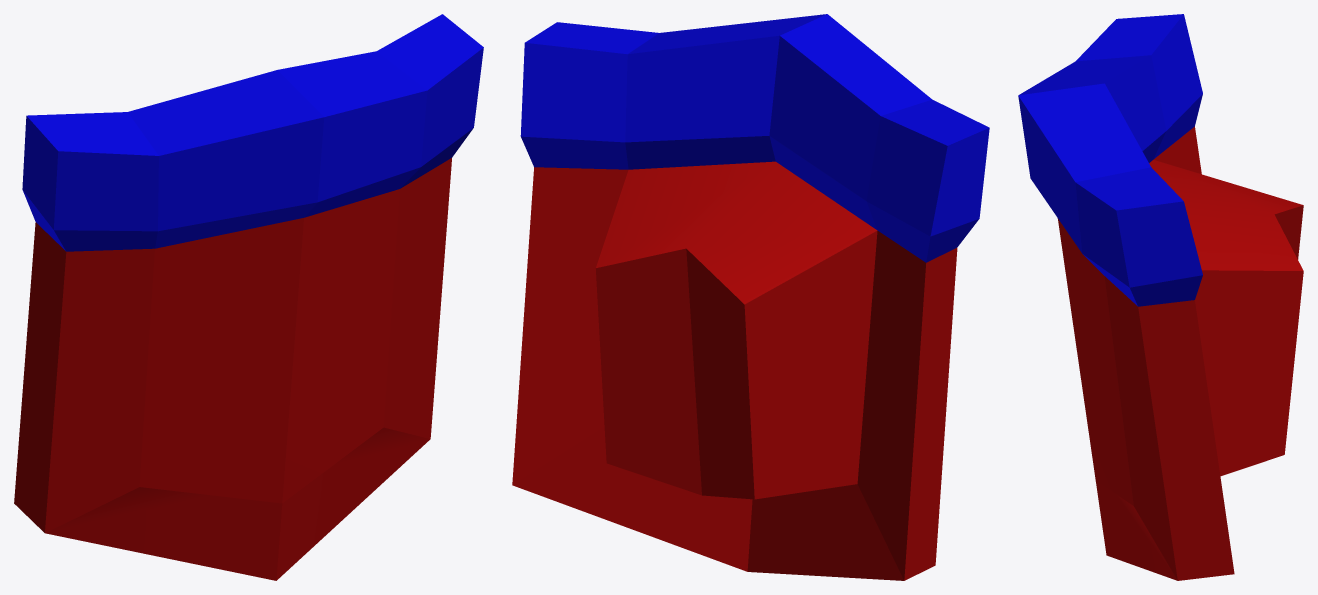
File: Chr_KneeAttachRight_Static_11.fbx
The picture shows the model from 3 angles, left to right: view 1: azimuth 30°, elevation 25°; view 2: azimuth 150°, elevation 25°; view 3: azimuth 270°, elevation 25°; orthographic projection. The views are drawn at different scales.
Parts seen in each view (by area): view 1: Chr_KneeAttachRight_11; view 2: Chr_KneeAttachRight_11; view 3: Chr_KneeAttachRight_11.
Part boxes in pixels (x1,y1,x2,y2): Chr_KneeAttachRight_11: (14, 14, 483, 580); Chr_KneeAttachRight_11: (512, 14, 989, 580); Chr_KneeAttachRight_11: (1018, 14, 1303, 580).
Size of the model in its own units: 10.91 by 12.54 by 6.88.
